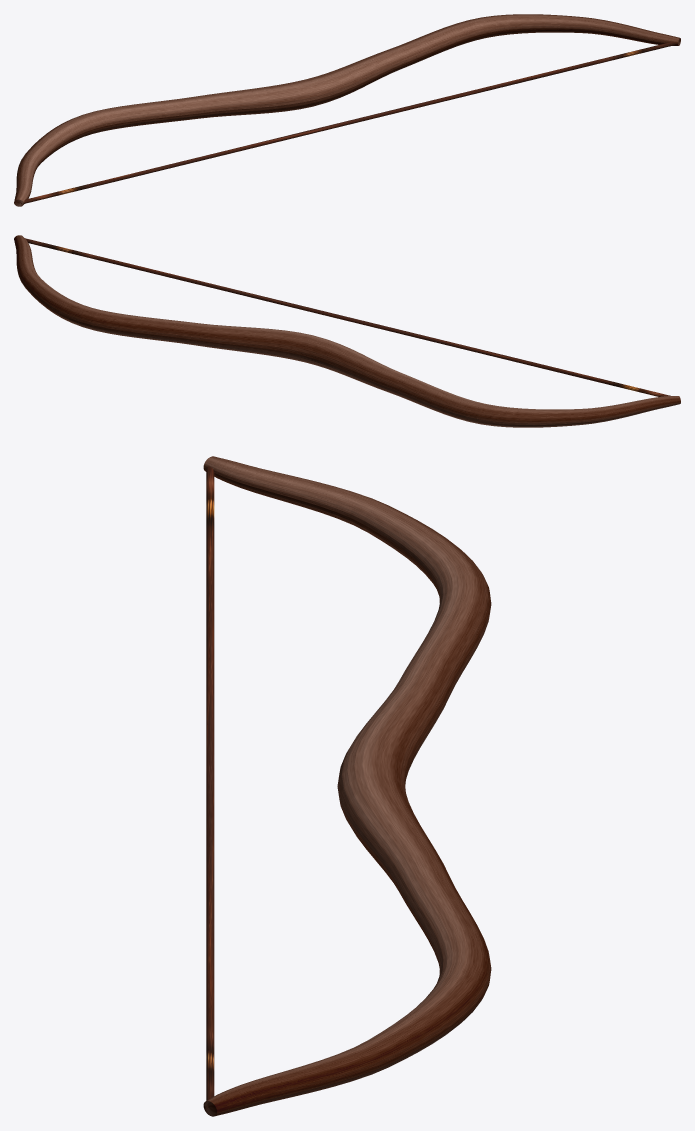
The model's file is long_frame.obj.
3 views of the same model, one above another, from view 1: azimuth 30°, elevation 25°; view 2: azimuth 150°, elevation 25°; view 3: azimuth 270°, elevation 25° (orthographic). The views are drawn at different scales.
Visible parts, largest first — view 1: bow, string; view 2: bow, string; view 3: bow, string.
Boxes of the visible parts, x1=… form: bow: x1=14, y1=14, x2=680, y2=206; string: x1=21, y1=41, x2=678, y2=204; bow: x1=14, y1=235, x2=680, y2=427; string: x1=25, y1=238, x2=670, y2=396; bow: x1=203, y1=456, x2=491, y2=1116; string: x1=206, y1=466, x2=214, y2=1109.
Size of the model in its own units: 104 by 3.57 by 19.44.
2 materials, 2 textured.
